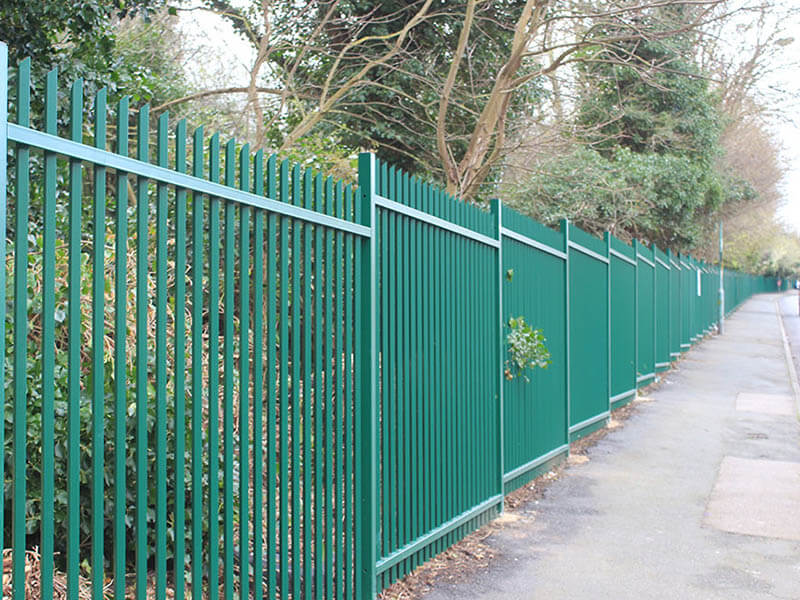Fence: (24, 187, 373, 596), (372, 200, 508, 544), (488, 228, 570, 487), (559, 259, 674, 422)
